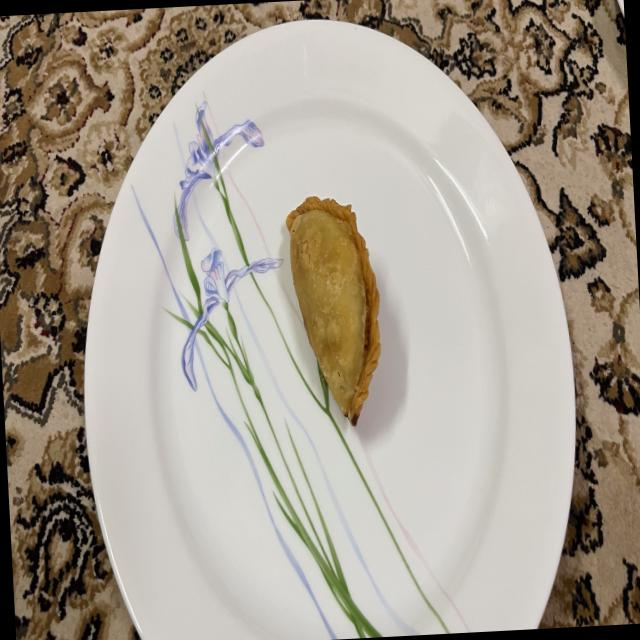karipap: (286, 196, 381, 425)
